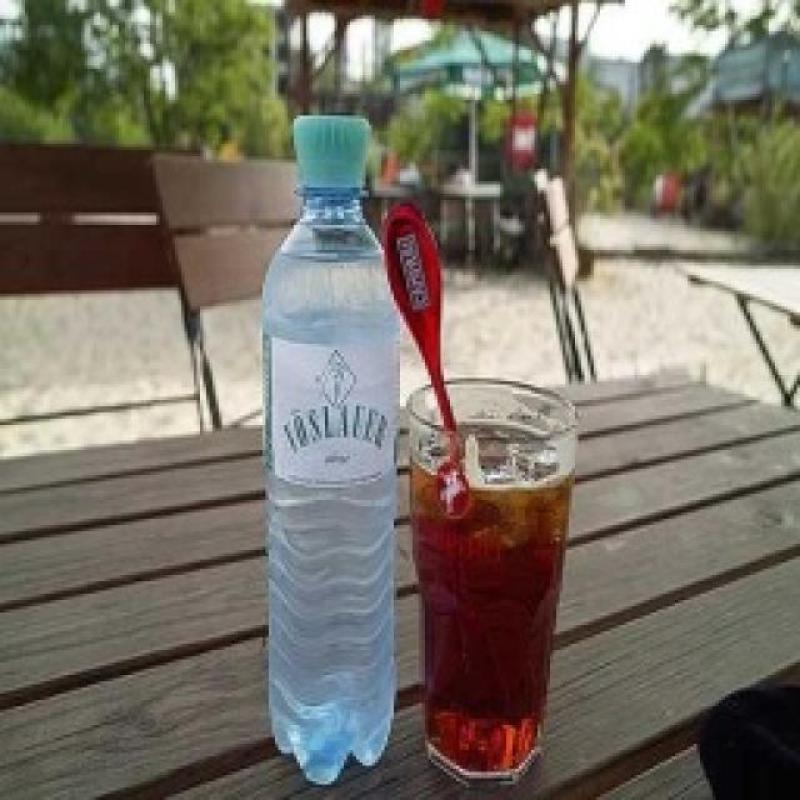botella: (261, 114, 399, 786)
